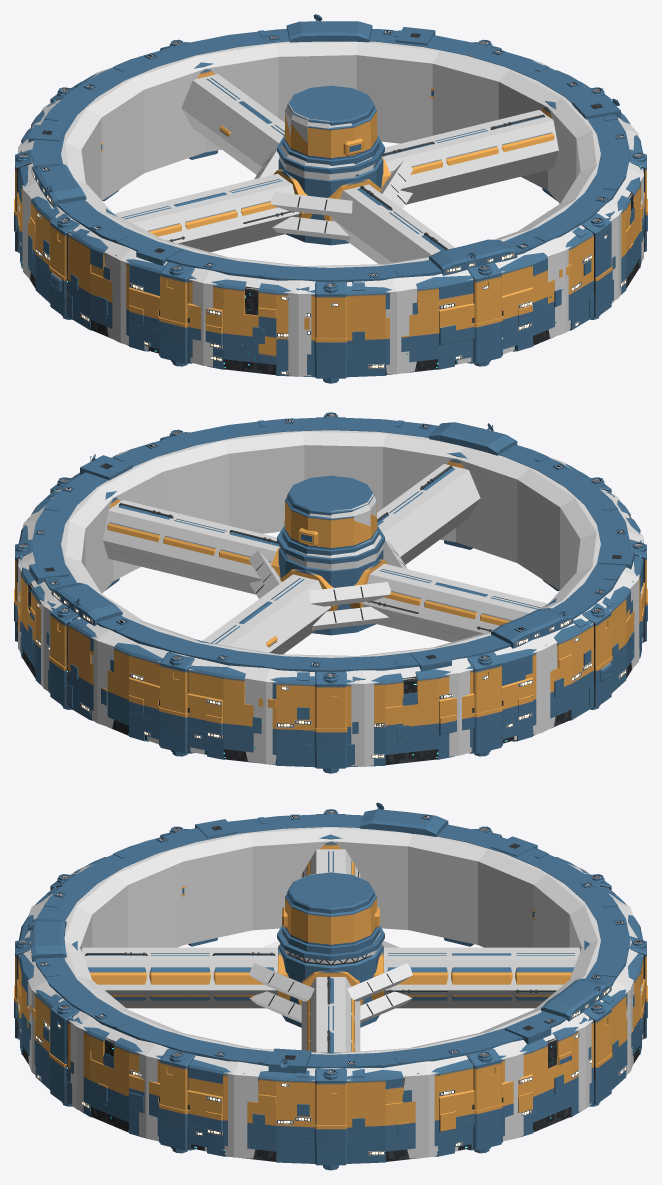
The model's file is SM_Ship_Station_01.fbx.
3 views of the same model, one above another, from view 1: azimuth 30°, elevation 25°; view 2: azimuth 150°, elevation 25°; view 3: azimuth 270°, elevation 25° (orthographic).
Visible parts, largest first — view 1: SM_Ship_Station_01_LOD0, SM_Ship_Station_01_ConvexHulls; view 2: SM_Ship_Station_01_LOD0, SM_Ship_Station_01_ConvexHulls; view 3: SM_Ship_Station_01_LOD0, SM_Ship_Station_01_ConvexHulls.
Boxes of the visible parts, box(x1,y1,x2,y2) form: SM_Ship_Station_01_LOD0: box(14, 14, 647, 383); SM_Ship_Station_01_ConvexHulls: box(18, 41, 643, 376); SM_Ship_Station_01_LOD0: box(14, 412, 647, 773); SM_Ship_Station_01_ConvexHulls: box(18, 430, 643, 766); SM_Ship_Station_01_LOD0: box(14, 802, 647, 1170); SM_Ship_Station_01_ConvexHulls: box(18, 827, 643, 1158).
Size of the model in its own units: 56336 by 56582 by 14683.
Materials: 1 (1 with a texture image).
